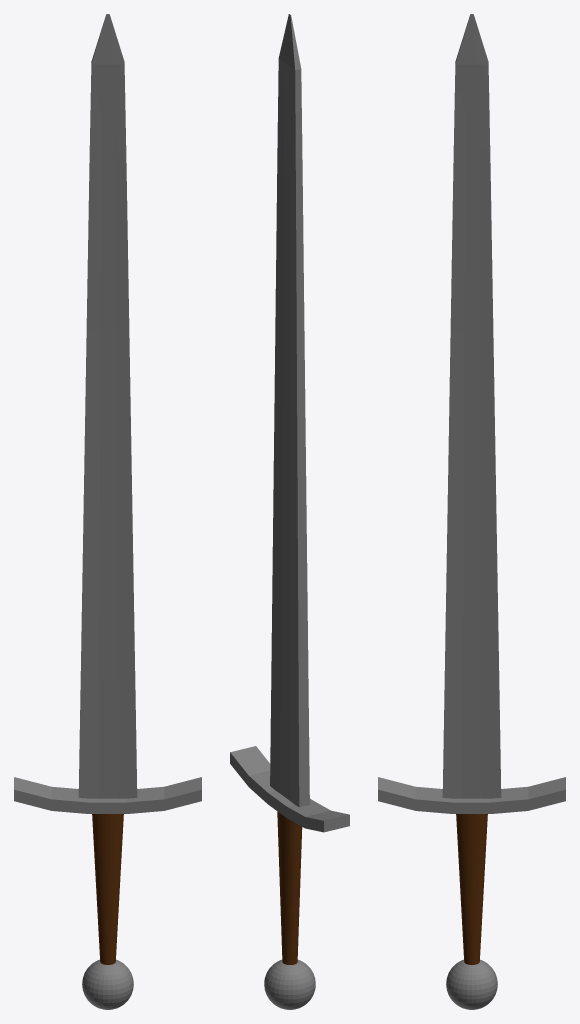
Rendered from Longsword 1.fbx.
3 renders of one model, left to right at view 1: azimuth 90°, elevation 25°; view 2: azimuth 210°, elevation 25°; view 3: azimuth 270°, elevation 25°, orthographic.
Parts seen in each view (by area): view 1: Cube.001; view 2: Cube.001; view 3: Cube.001.
Boxes of the visible parts, x1,y1,x2,y2 form: Cube.001: [14, 14, 201, 1009]; Cube.001: [230, 14, 349, 1009]; Cube.001: [378, 14, 565, 1009].
Size of the model in its own units: 55.18 by 1168 by 200.
